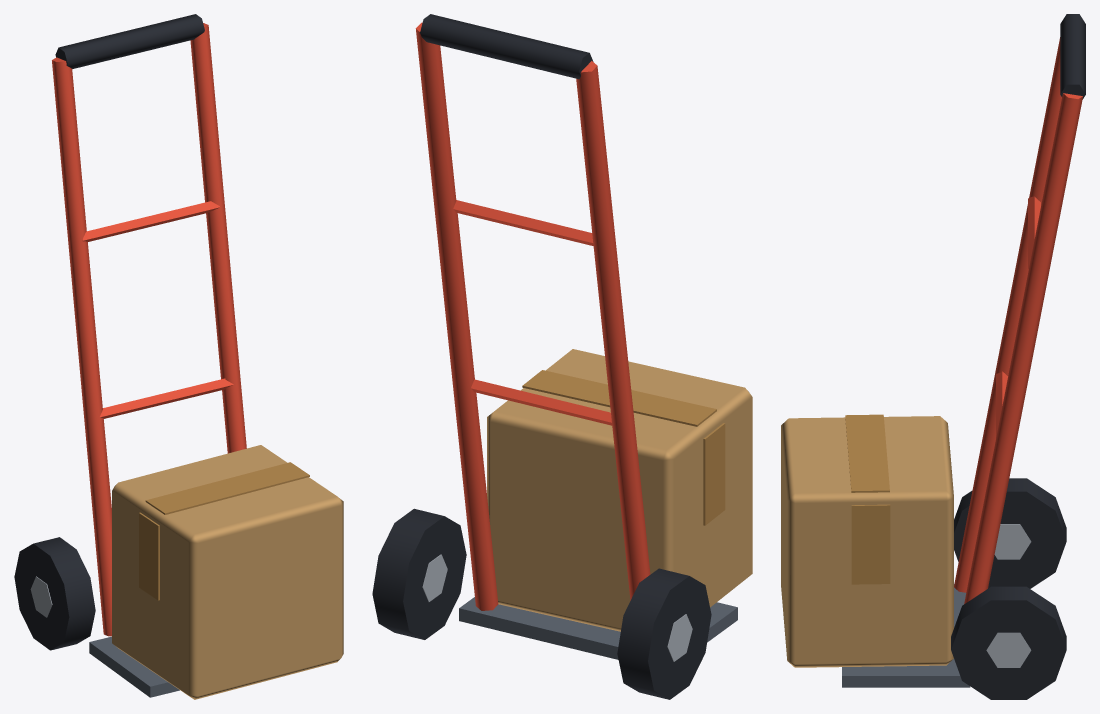
File: station_buffer_ausstattung_2_0.glb
3 renders of one model, left to right at view 1: azimuth 30°, elevation 25°; view 2: azimuth 150°, elevation 25°; view 3: azimuth 270°, elevation 25°, orthographic. The views are drawn at different scales.
Visible parts, largest first — view 1: station_buffer_ausstattung_2_0; view 2: station_buffer_ausstattung_2_0; view 3: station_buffer_ausstattung_2_0.
Part boxes in pixels (<box>): station_buffer_ausstattung_2_0: <box>14,14,343,699</box>; station_buffer_ausstattung_2_0: <box>372,14,752,699</box>; station_buffer_ausstattung_2_0: <box>781,14,1085,699</box>.
Size of the model in its own units: 0.452 by 1.02 by 0.4747.
